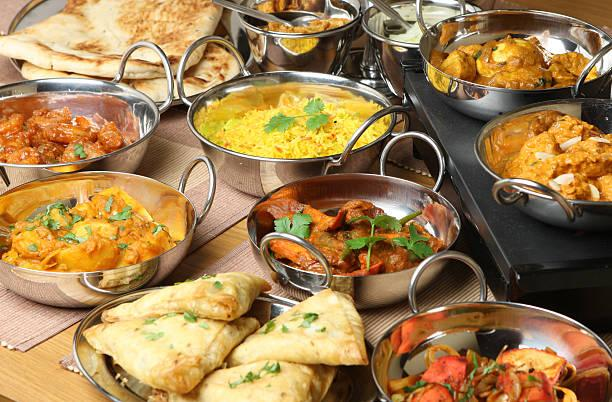Braised Crucian Carp: (69, 283, 365, 398), (183, 65, 418, 200), (243, 171, 461, 311), (2, 165, 213, 306), (365, 297, 611, 402), (415, 7, 609, 121), (1, 67, 169, 190), (472, 94, 612, 235)
